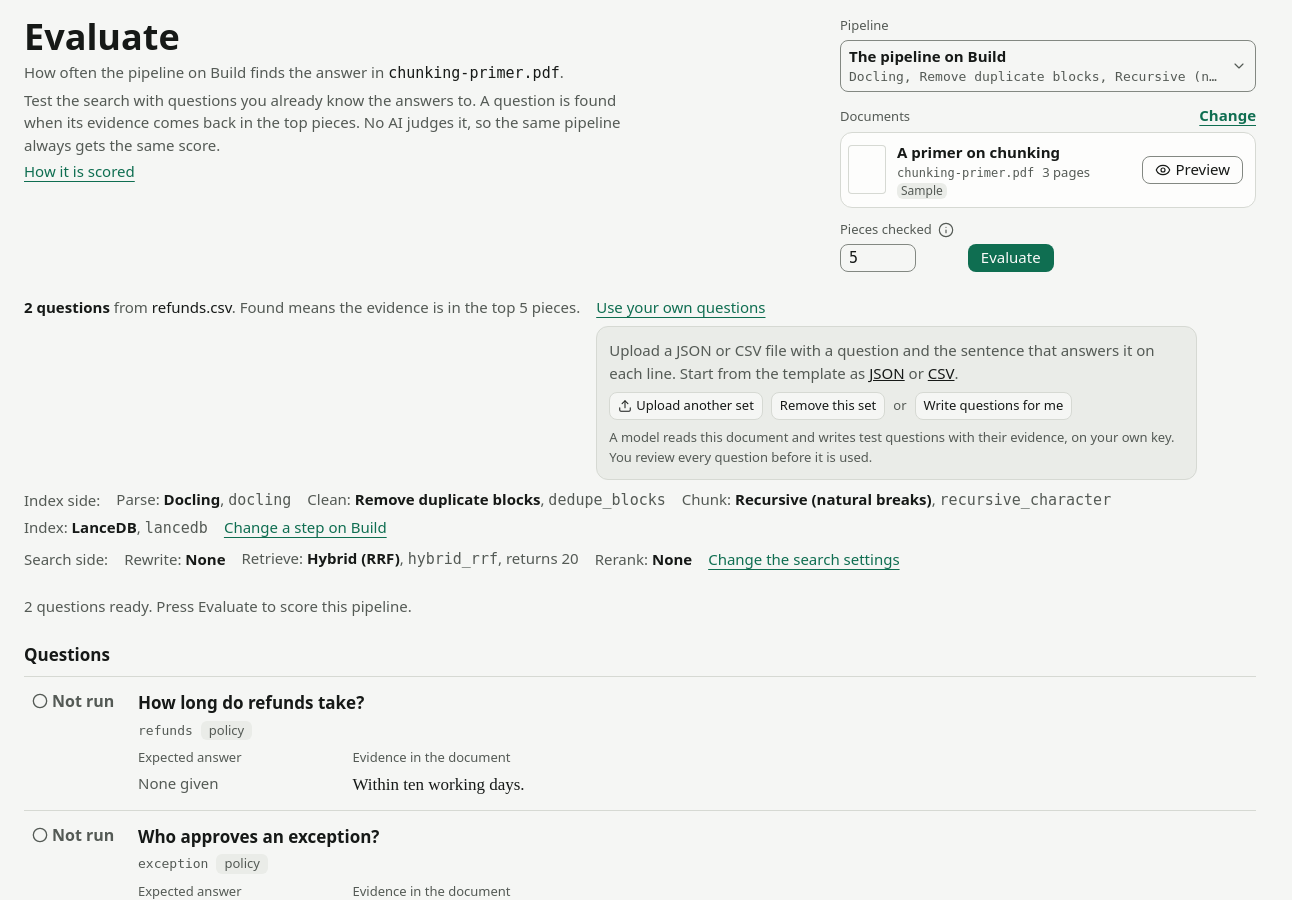
Test case: the question set panel › goes back to the sample set when the uploaded one is removed
Expected: the text with test id "set-name" reads "refunds.csv", [152,297,232,317]
Click the button "Remove this set".
click(828, 406)  # box [771,392,885,420]
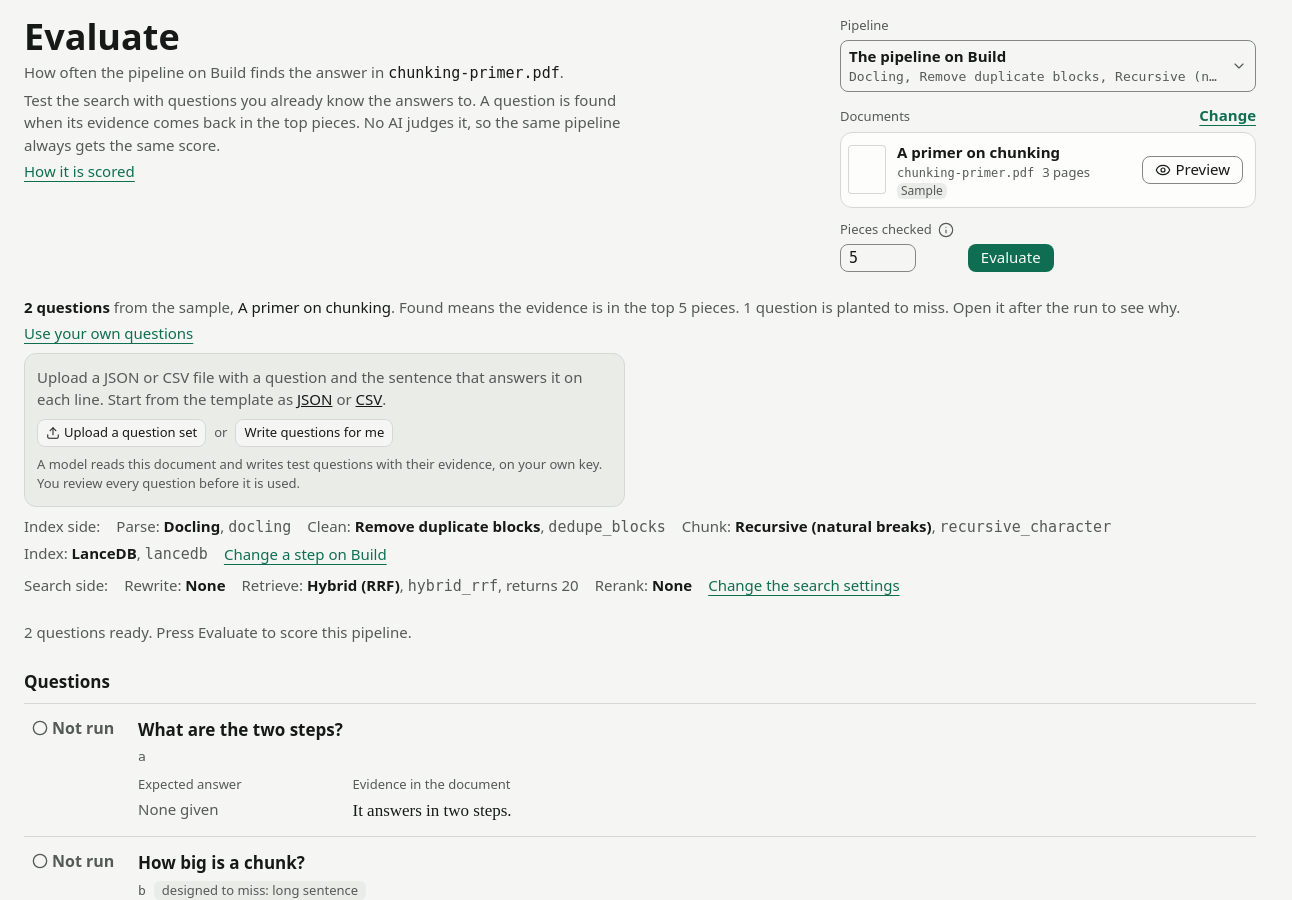
Expected: the text with test id "set-name" reads "A primer on chunking", [238,297,391,317]
